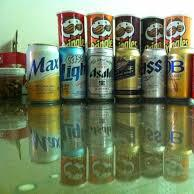beer: (24, 43, 194, 104)
